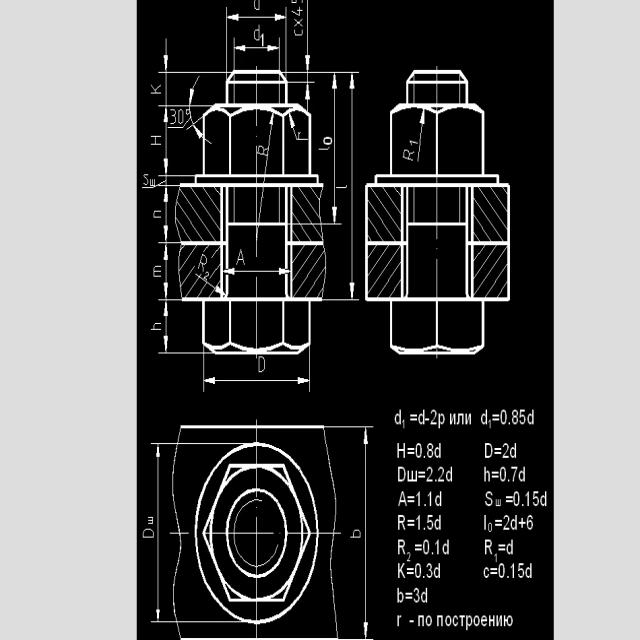marking_line: (361, 429, 370, 639), (349, 76, 356, 301), (330, 76, 340, 224), (206, 374, 309, 385), (155, 444, 161, 619), (230, 12, 285, 24), (303, 0, 312, 72), (225, 266, 289, 275), (162, 108, 170, 177), (234, 45, 280, 56), (417, 111, 426, 163), (162, 304, 169, 351), (164, 188, 169, 239), (163, 247, 168, 298), (162, 41, 170, 70)
numeric: (513, 491, 542, 510), (498, 559, 523, 580), (500, 409, 528, 427), (504, 516, 535, 532), (422, 537, 442, 560), (498, 465, 521, 483), (415, 441, 435, 461), (414, 489, 434, 507), (425, 466, 445, 484), (415, 561, 434, 578), (416, 515, 436, 531), (169, 110, 185, 128), (499, 438, 510, 460), (412, 587, 421, 603)
special_symbol: (288, 114, 305, 143)
